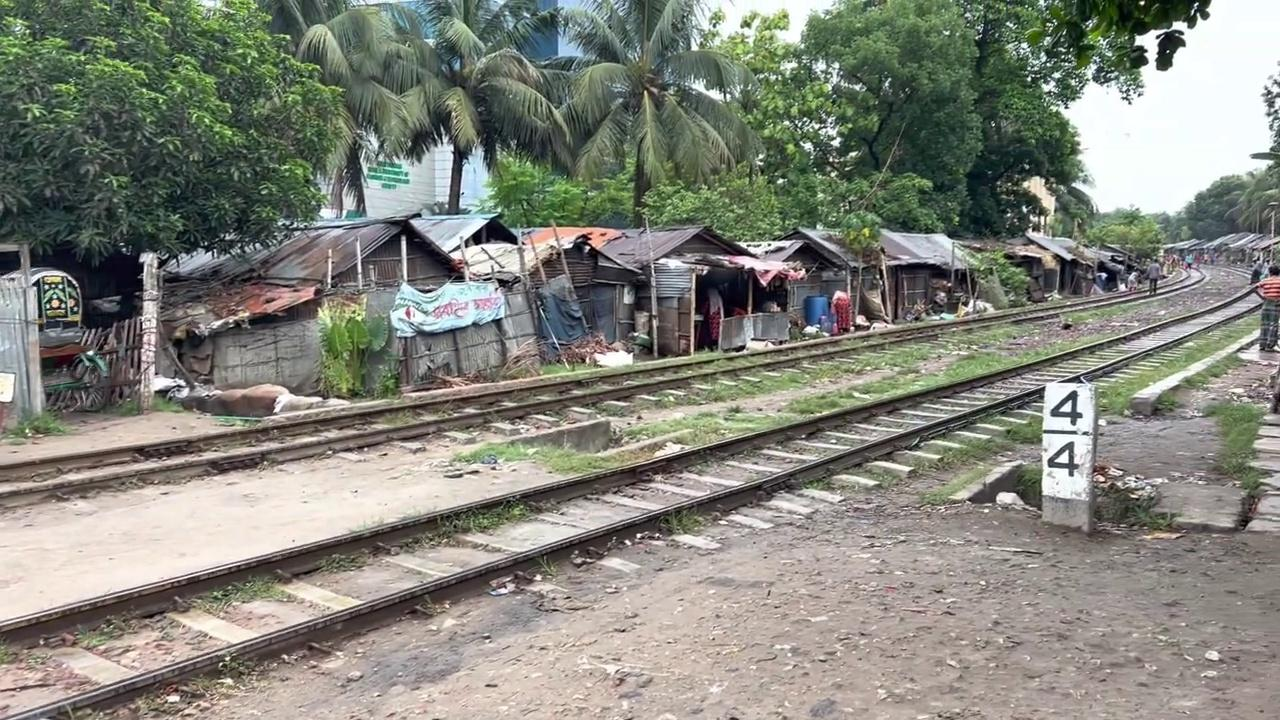Animal: (176, 382, 349, 417)
Fence: (1254, 264, 1279, 351)
Motorcycle: (0, 332, 1275, 669)
Pothole: (1040, 380, 1096, 532)
Railroad-crossing: (386, 0, 568, 214)
